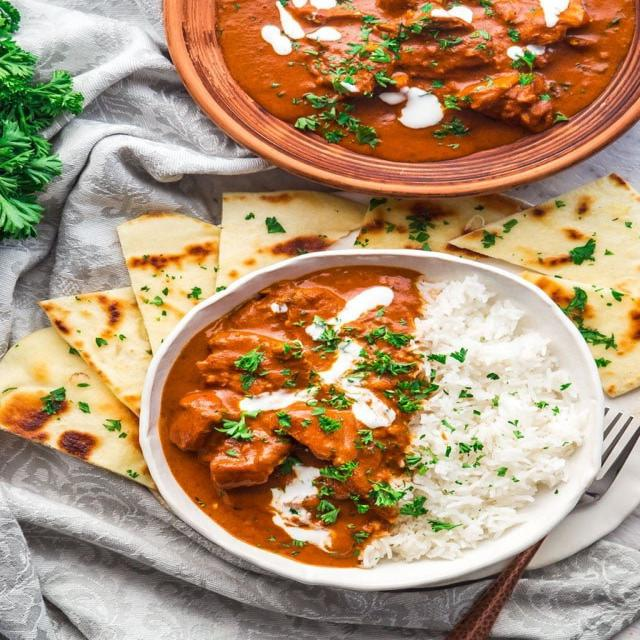Butter Chicken: (156, 255, 432, 574), (208, 3, 628, 162)
